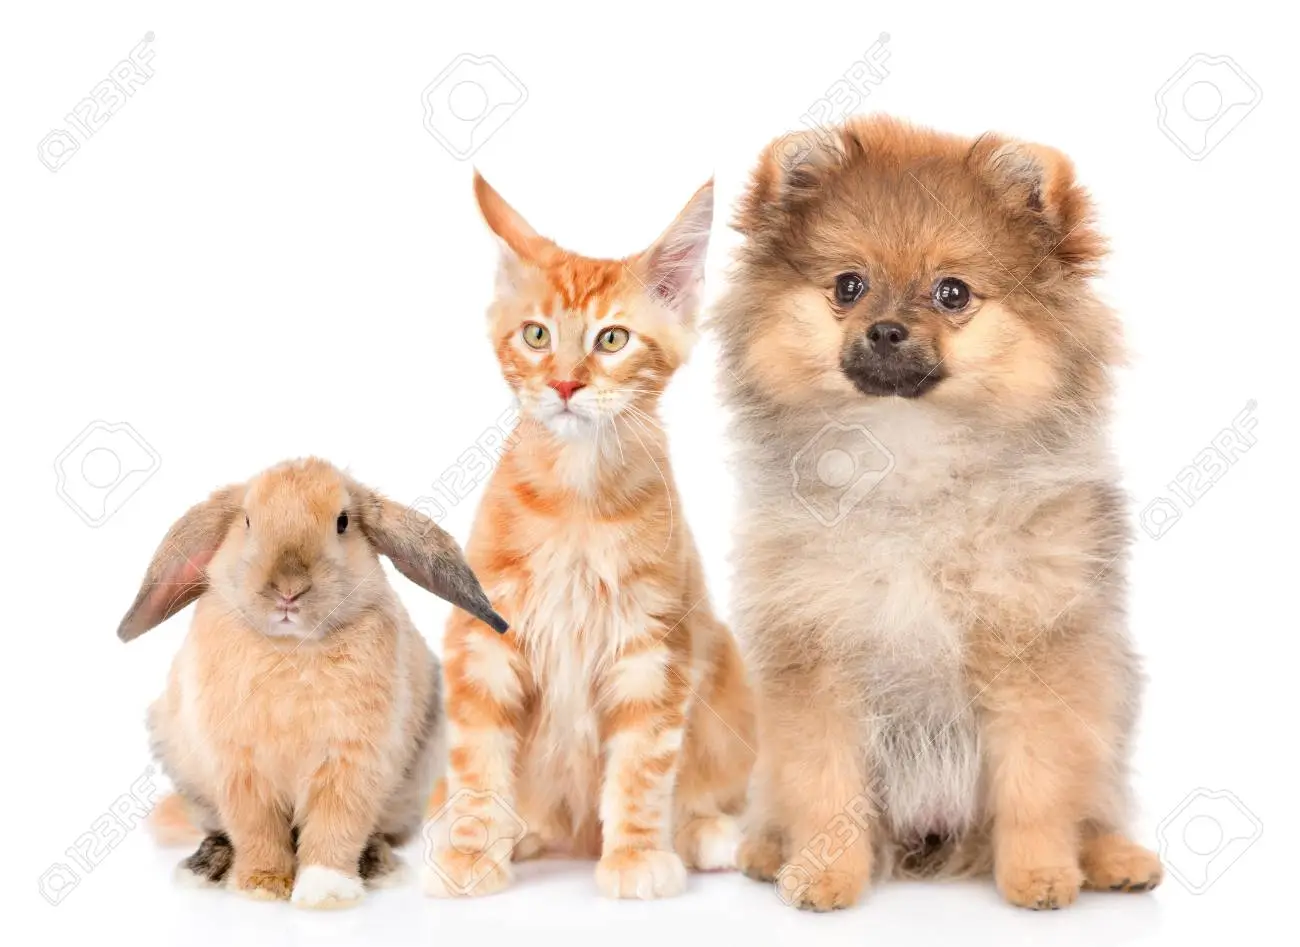cat: (456, 170, 739, 912)
dog: (729, 125, 1153, 914)
rabbit: (122, 442, 490, 907)
